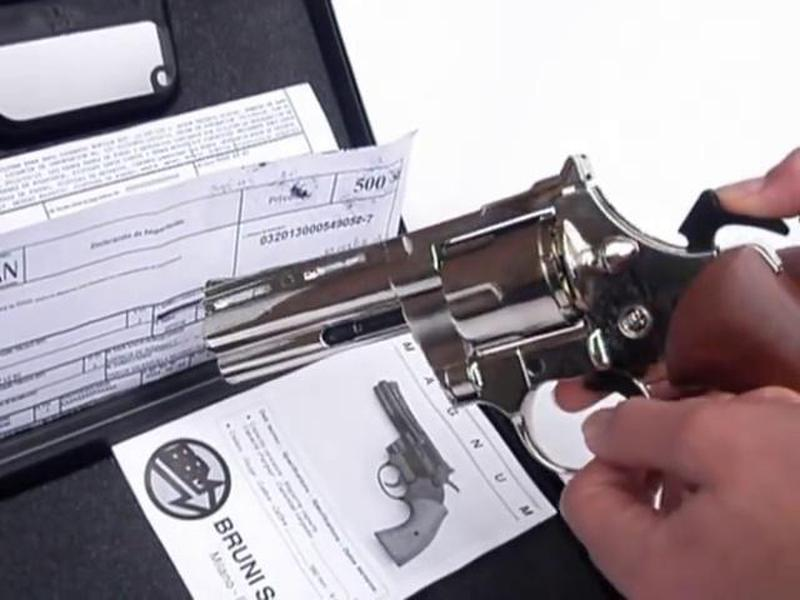Revolver: (195, 151, 727, 488)
